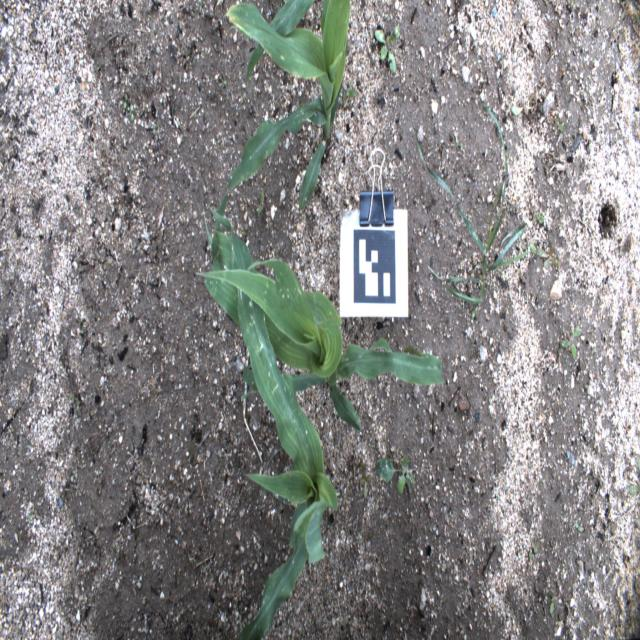crop: (196, 192, 444, 434), (209, 207, 338, 639), (224, 0, 352, 212)
weed: (412, 106, 534, 303), (375, 452, 417, 496), (374, 24, 400, 74), (560, 326, 582, 360), (628, 454, 640, 494), (359, 466, 371, 502), (257, 187, 265, 216), (528, 542, 538, 561), (549, 590, 556, 617), (341, 88, 357, 98), (555, 116, 563, 132), (129, 102, 134, 125), (70, 467, 76, 482), (574, 522, 582, 532), (455, 141, 463, 151), (123, 94, 127, 112), (152, 122, 156, 137), (585, 78, 588, 93)
